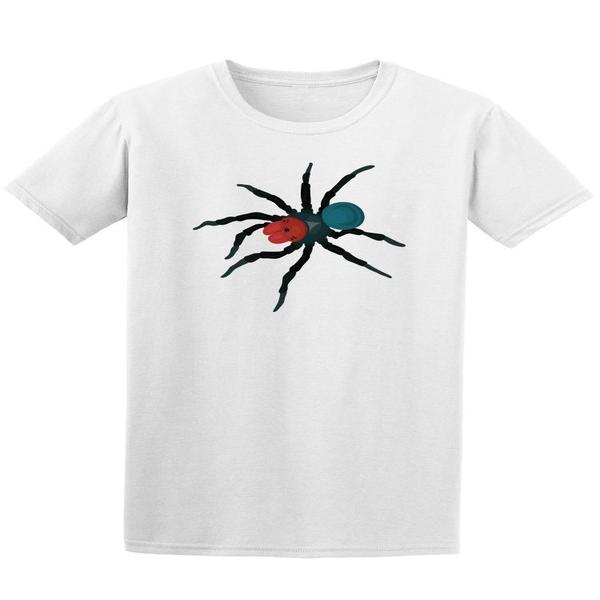Red Headed Mouse Spider: (193, 162, 406, 310)
